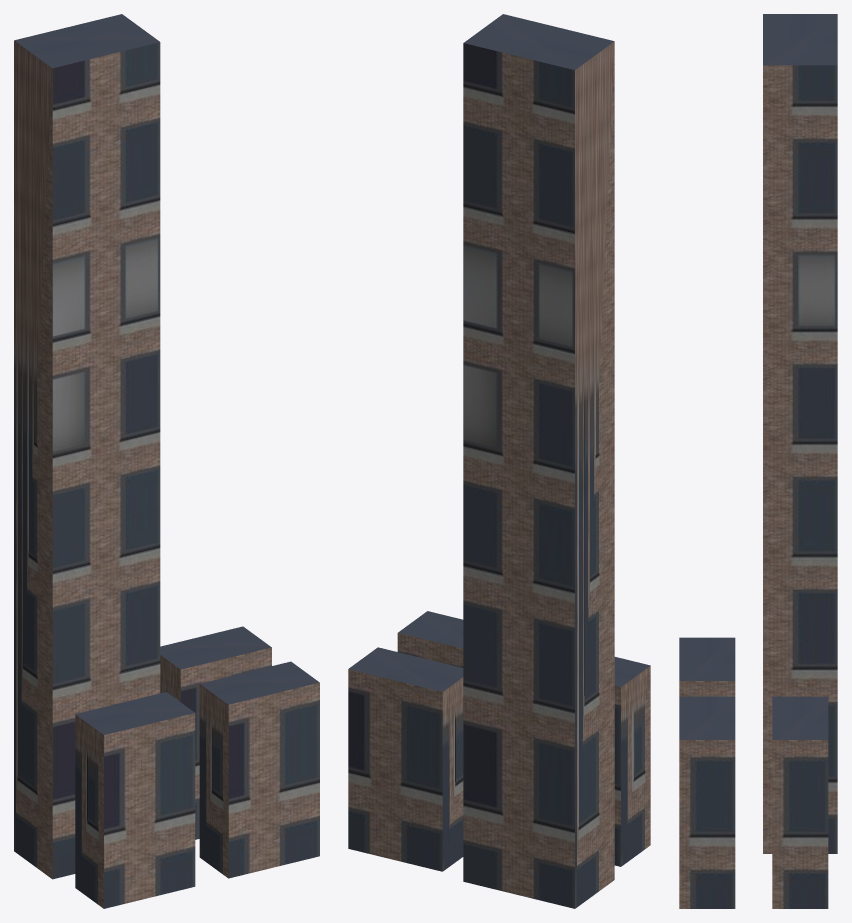
File: block_06.obj
The picture shows the model from 3 angles, left to right: view 1: azimuth 30°, elevation 25°; view 2: azimuth 150°, elevation 25°; view 3: azimuth 270°, elevation 25°; orthographic projection. The views are drawn at different scales.
Visible parts, largest first — view 1: b0, b1, b3, b2; view 2: b0, b2, b1, b3; view 3: b0, b2, b3, b1.
Part boxes in pixels (x1=…): b0: x1=14, y1=14, x2=160, y2=879; b1: x1=75, y1=692, x2=195, y2=908; b3: x1=199, y1=661, x2=319, y2=878; b2: x1=160, y1=626, x2=271, y2=839; b0: x1=463, y1=14, x2=614, y2=908; b2: x1=348, y1=647, x2=463, y2=871; b1: x1=614, y1=657, x2=650, y2=866; b3: x1=397, y1=611, x2=463, y2=667; b0: x1=763, y1=14, x2=837, y2=853; b2: x1=772, y1=696, x2=828, y2=908; b3: x1=679, y1=696, x2=735, y2=908; b1: x1=679, y1=637, x2=735, y2=696.
Size of the model in its own units: 4.05 by 14 by 2.55.
